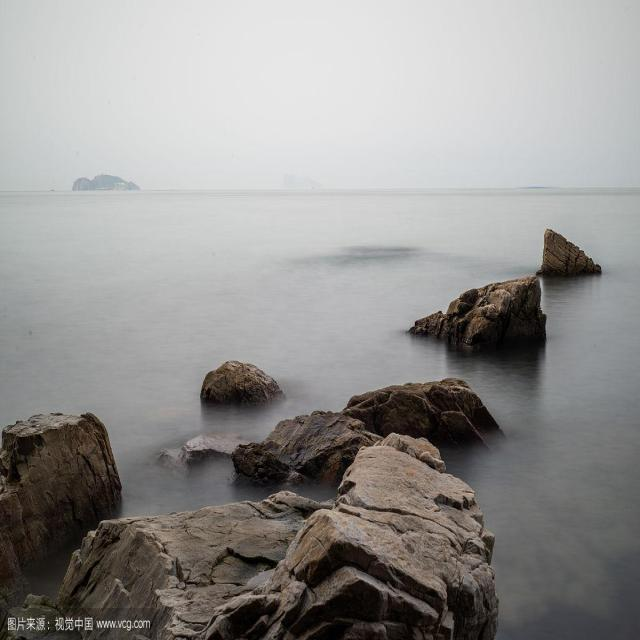reef: (394, 209, 614, 368), (0, 394, 124, 589), (190, 344, 281, 411)
